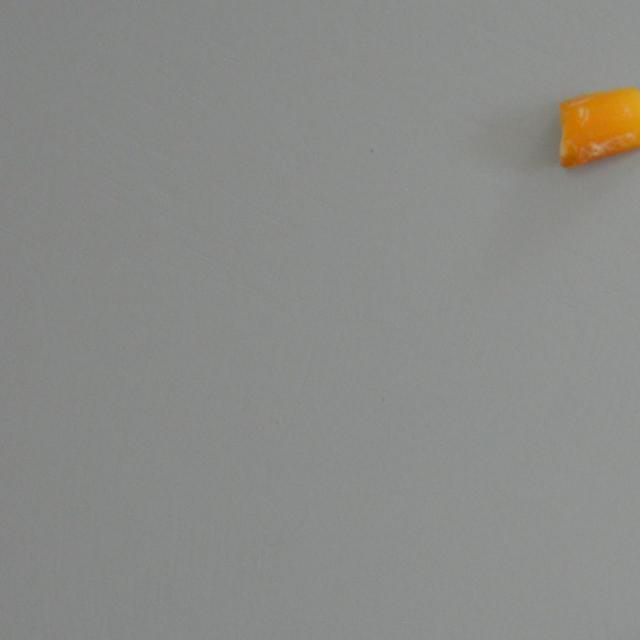dañado: (556, 79, 640, 182)
